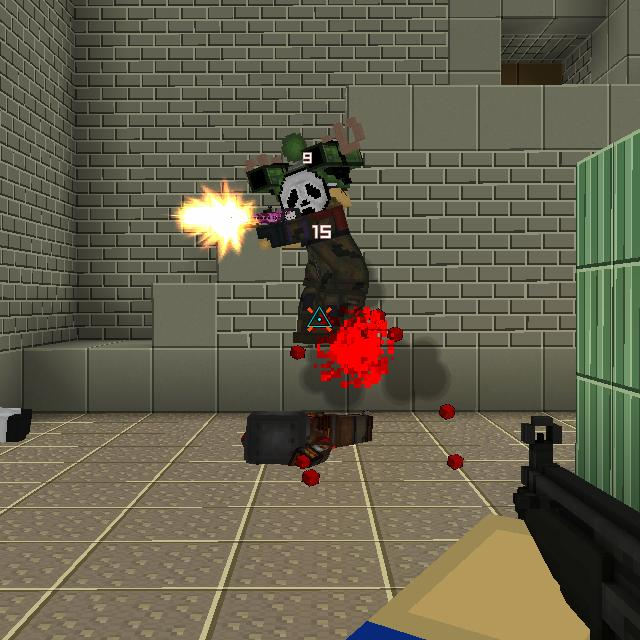enemy: (242, 114, 370, 346)
